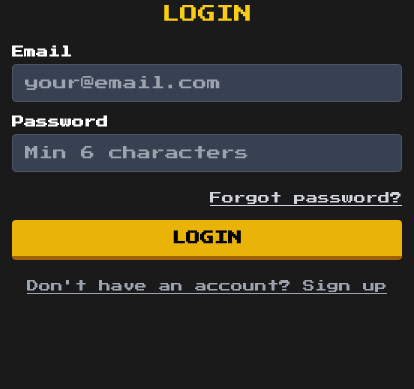
AuthScreen › sends password reset email with trimmed email
Type "  tester@example.com  " into the field with placeholder "your@email.com". click: (207, 83)
box: [12, 64, 402, 102]
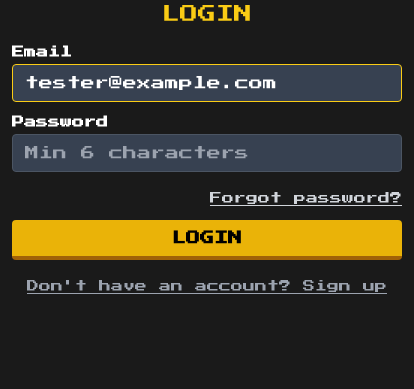
Click the button "Forgot password?". click: (306, 198)
box: [210, 190, 402, 206]
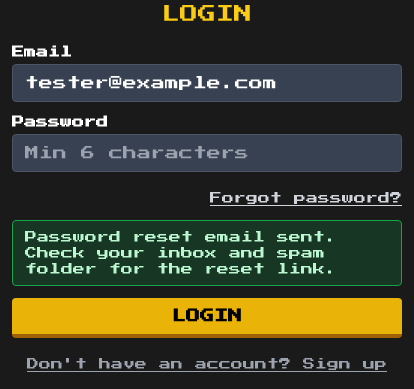
Check: the text "Password reset email sent" is shown, box [25, 231, 337, 275]
